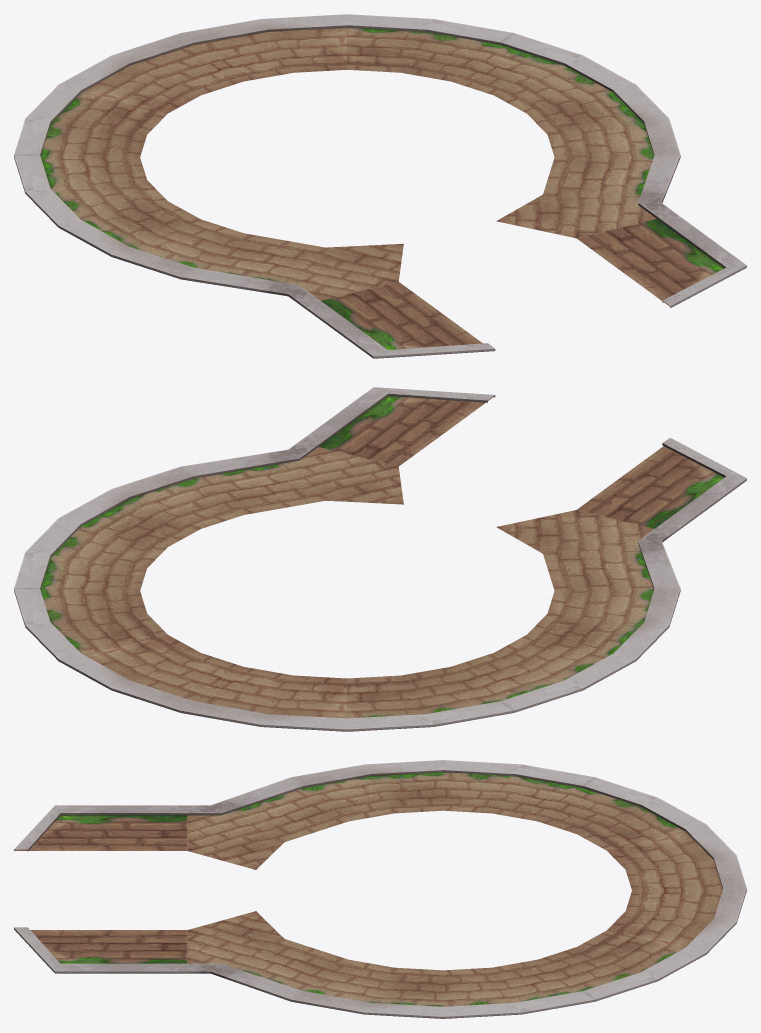
Rendered from diban_01.FBX.
3 renders of one model, top to bottom at view 1: azimuth 30°, elevation 25°; view 2: azimuth 150°, elevation 25°; view 3: azimuth 270°, elevation 25°, orthographic. The views are drawn at different scales.
Parts seen in each view (by area): view 1: diban_01; view 2: diban_01; view 3: diban_01.
Boxes of the visible parts, x1,y1,x2,y2 form: diban_01: (14, 14, 746, 358); diban_01: (14, 387, 746, 731); diban_01: (14, 760, 746, 1018).
Size of the model in its own units: 2810 by 10.87 by 3389.
